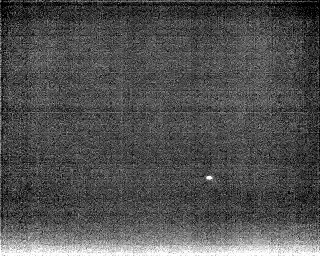AIRPLANE: (204, 172, 215, 184)
